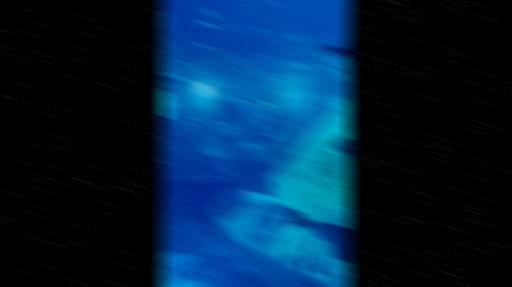Fish: (272, 124, 303, 153), (327, 224, 350, 261), (280, 25, 317, 44), (317, 39, 350, 60), (284, 208, 311, 228), (159, 73, 186, 87), (282, 255, 299, 265), (159, 14, 172, 27), (263, 148, 274, 163), (255, 25, 268, 37), (312, 261, 323, 273), (260, 103, 275, 111), (210, 49, 225, 55), (202, 9, 215, 15), (266, 87, 275, 95), (202, 24, 219, 28), (197, 20, 208, 26), (256, 118, 262, 129), (285, 34, 294, 41), (178, 60, 189, 65), (192, 43, 205, 47), (208, 15, 219, 19), (173, 30, 179, 35), (323, 19, 329, 24)
